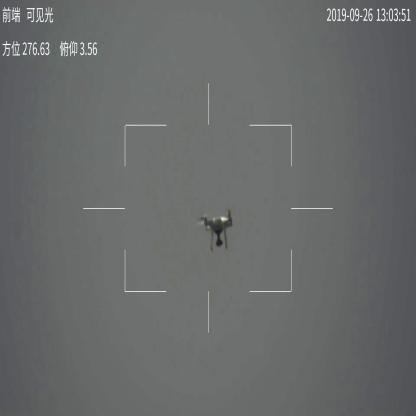uav: (193, 209, 240, 252)
